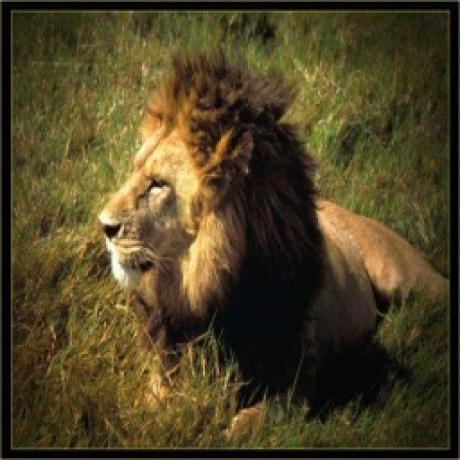Lion: (100, 46, 450, 376)
